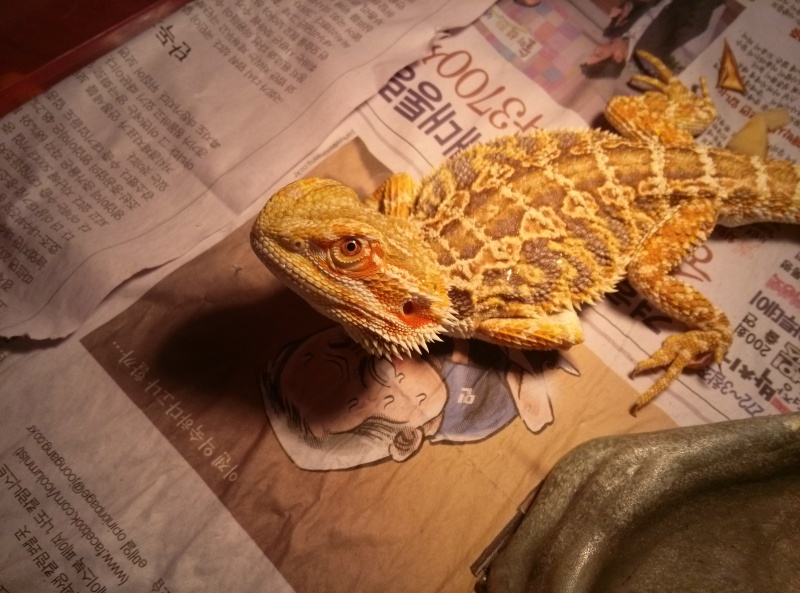bearded: (249, 52, 800, 410)
